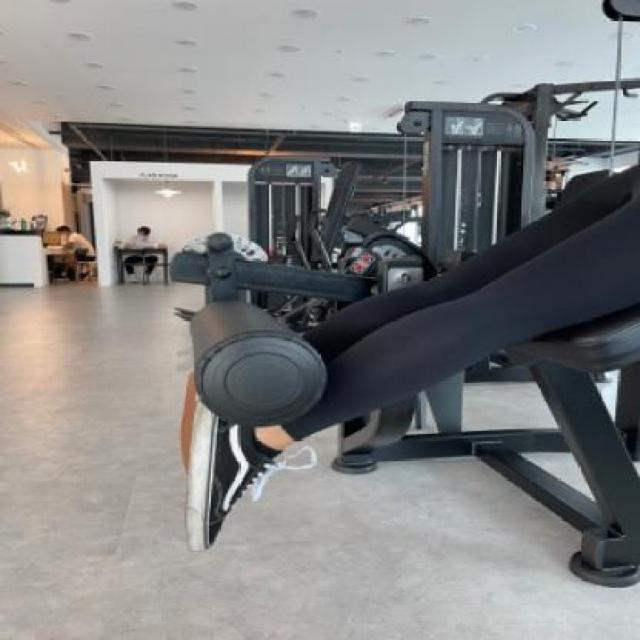reg curl machine: (166, 137, 640, 595)
